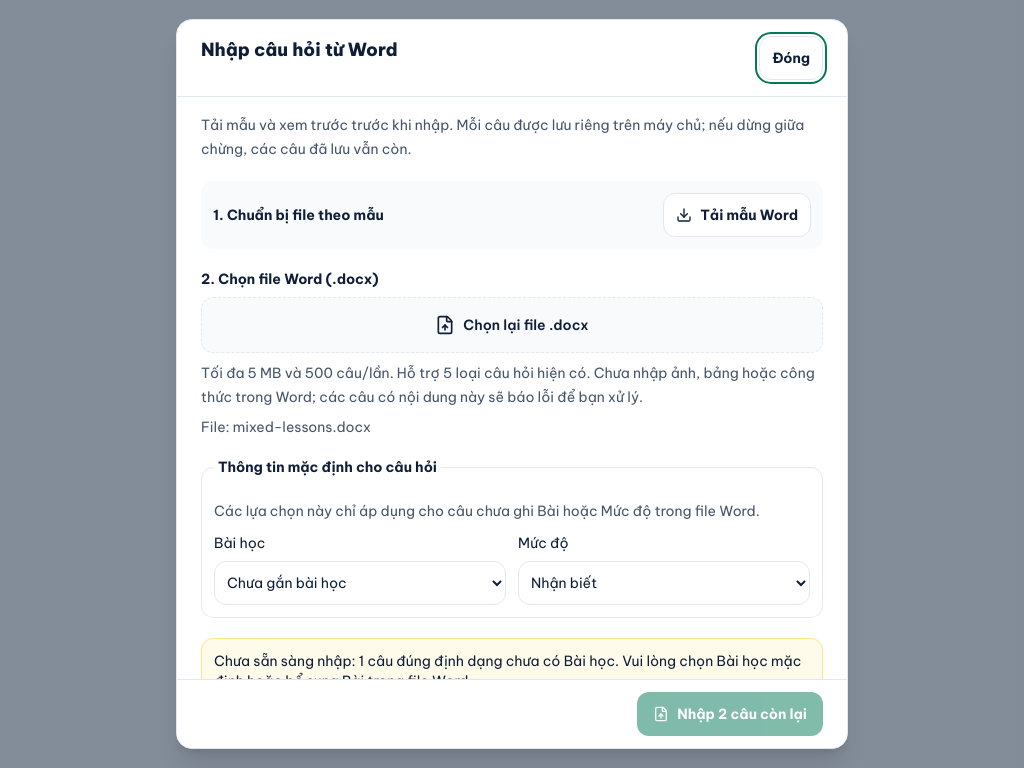
Test: Question Word import confirmation › explains missing lesson readiness and applies the default only to questions without a Word lesson
Earlier steps of the test are not shown.
Later steps or results of the test are not shown.
Check: the button "Nhập 2 câu còn lại" is disabled, box [637,692,823,736]
Select "Bài 1. Môn Địa lí với định hướng nghề nghiệp" in the dropdown named "Bài học mặc định khi nhập Word": (360,583) [214,561,506,605]
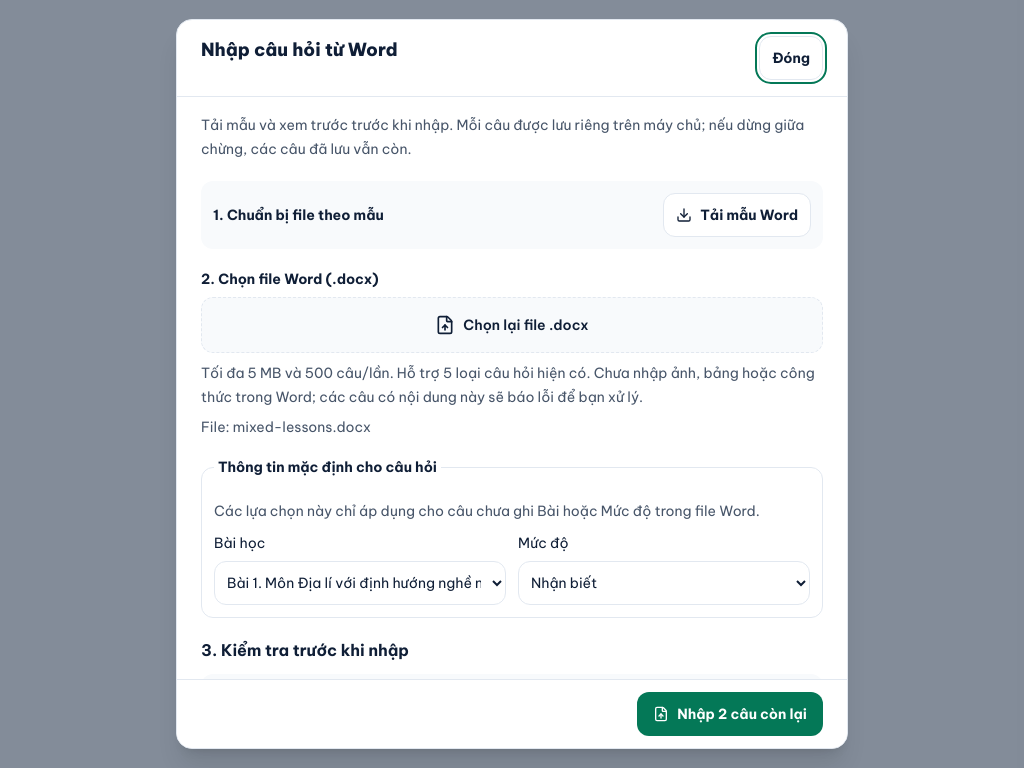
Check: the text "Chưa sẵn sàng nhập" is gone
Check: the button "Nhập 2 câu còn lại" is enabled, box [637,692,823,736]
